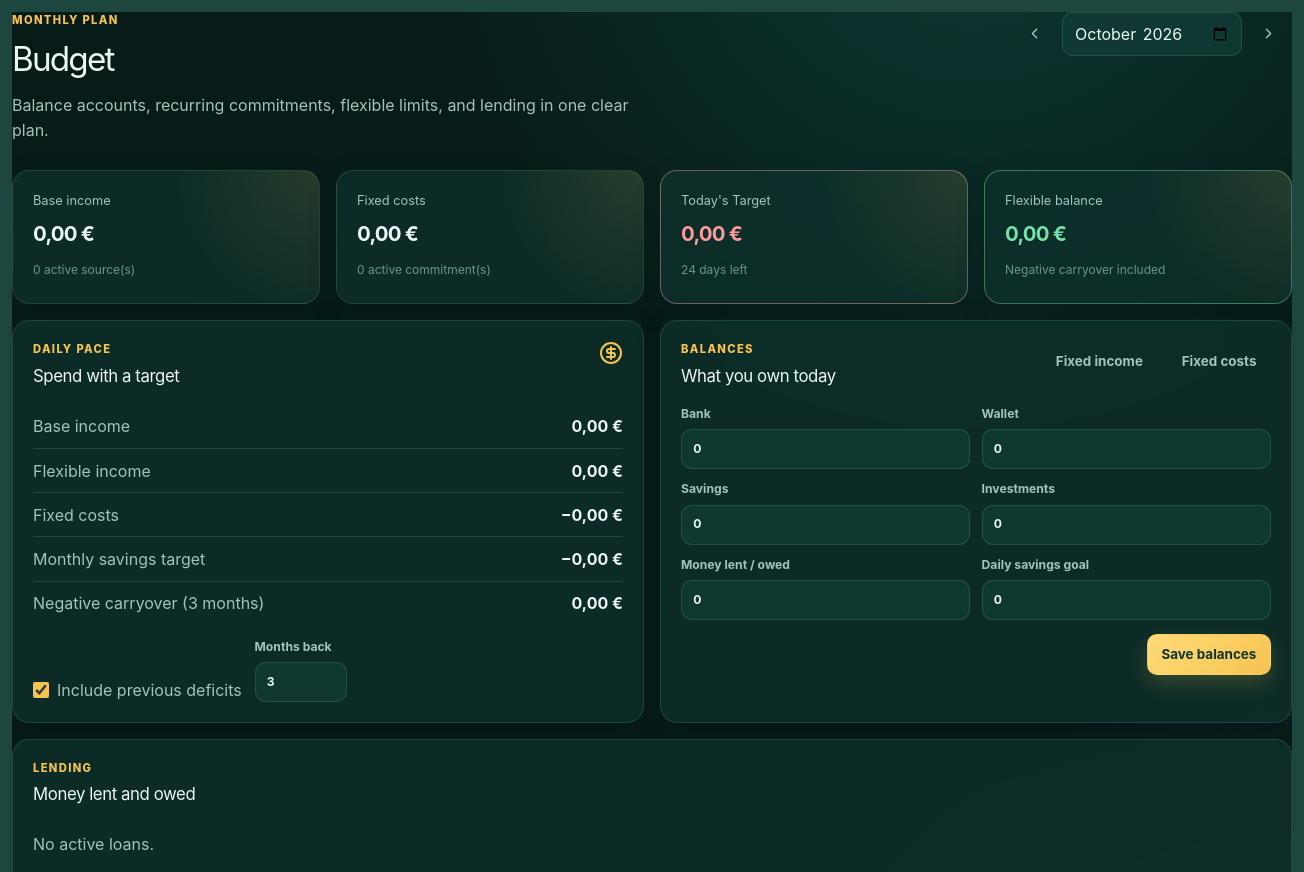
Test: BudgetScreen lending › navigates between budget months
The width and height of the screenshot is (1304, 872).
Expected: the field named "Budget month" holds "2026-10", x1=1062 y1=12 x2=1242 y2=56
Replace the text in the number field named "Carryover months" with "5" at (300, 682), box x1=254 y1=662 x2=346 y2=702
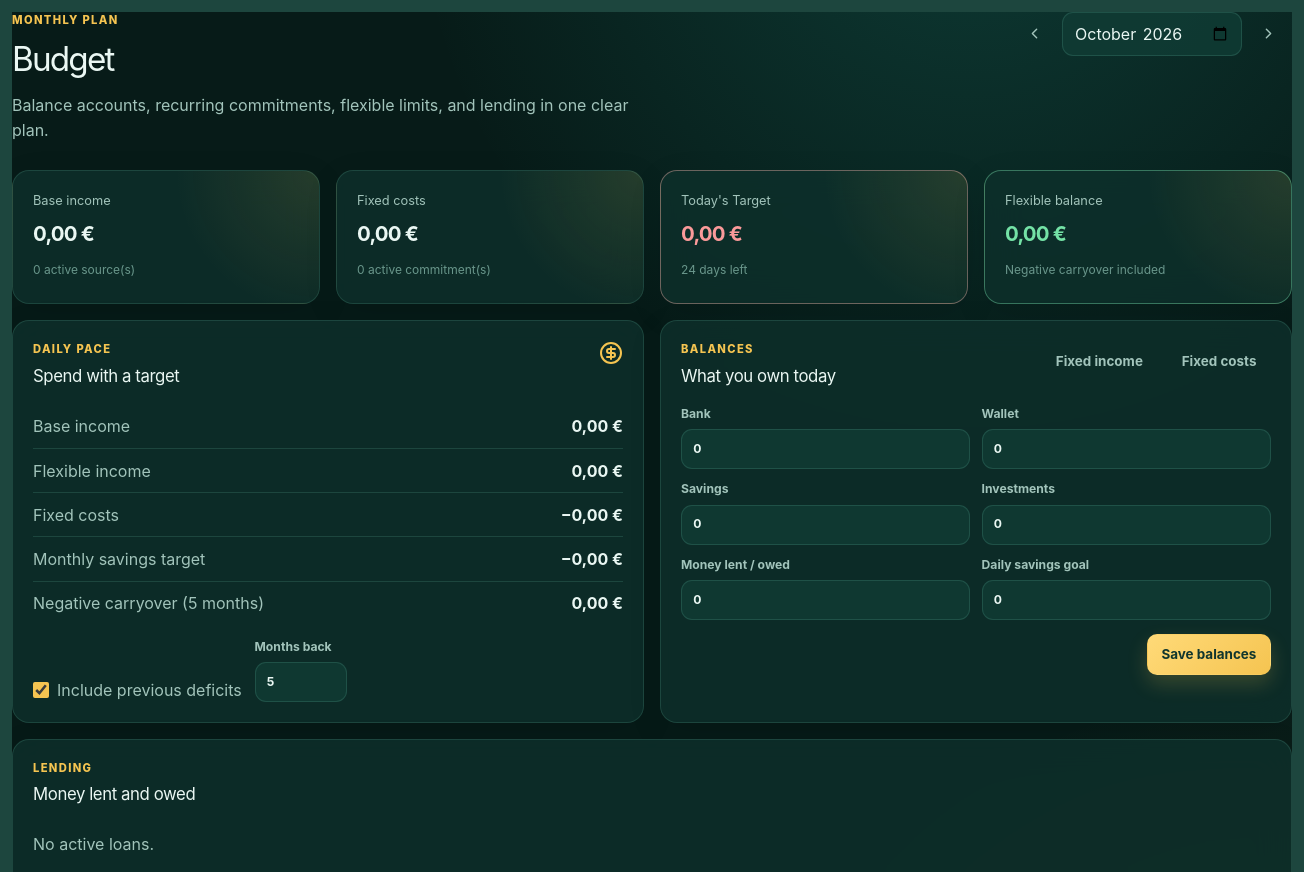
Click the button named "Previous month" at (1035, 34), box x1=1012 y1=14 x2=1058 y2=53
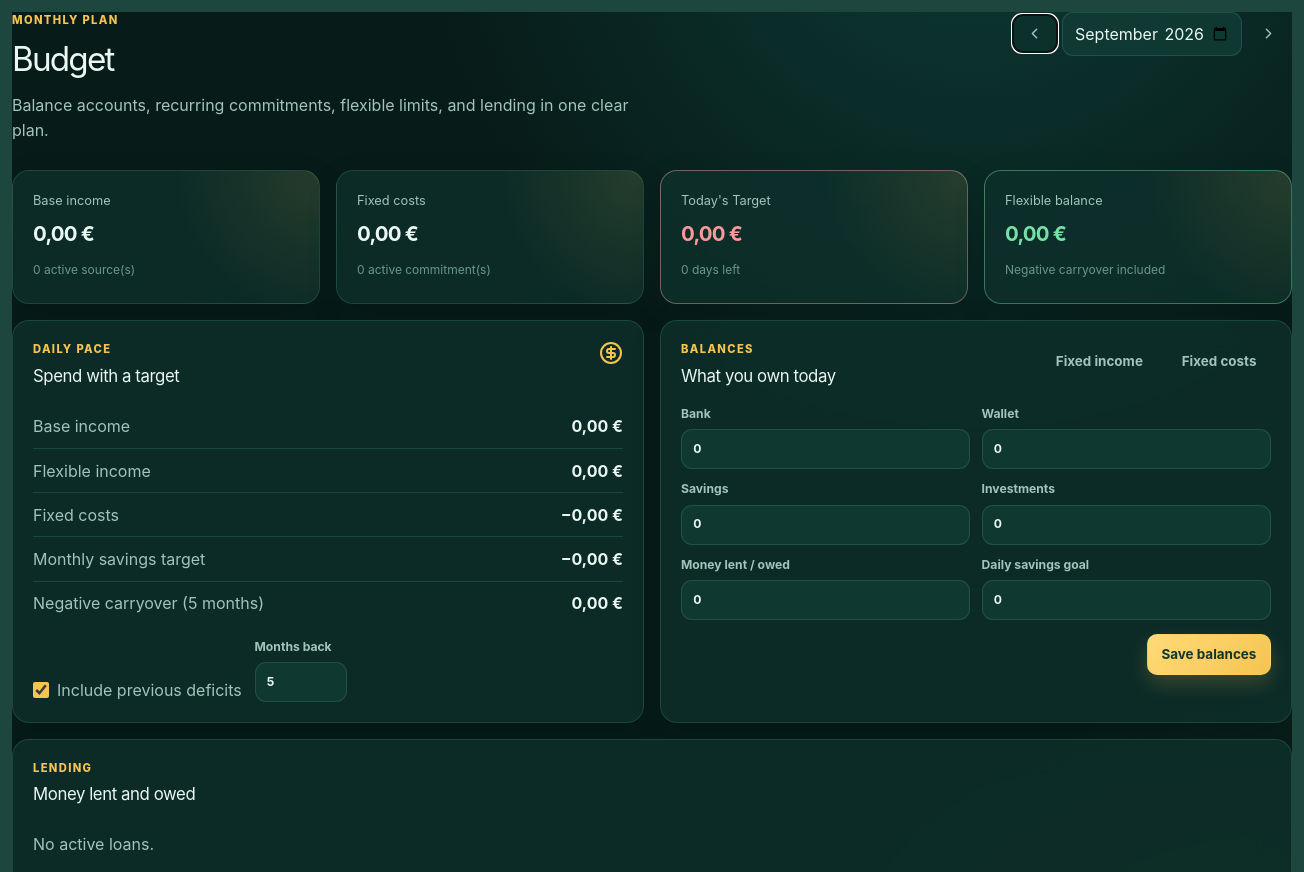
Click the button named "Next month" at (1269, 34), box x1=1246 y1=14 x2=1292 y2=53
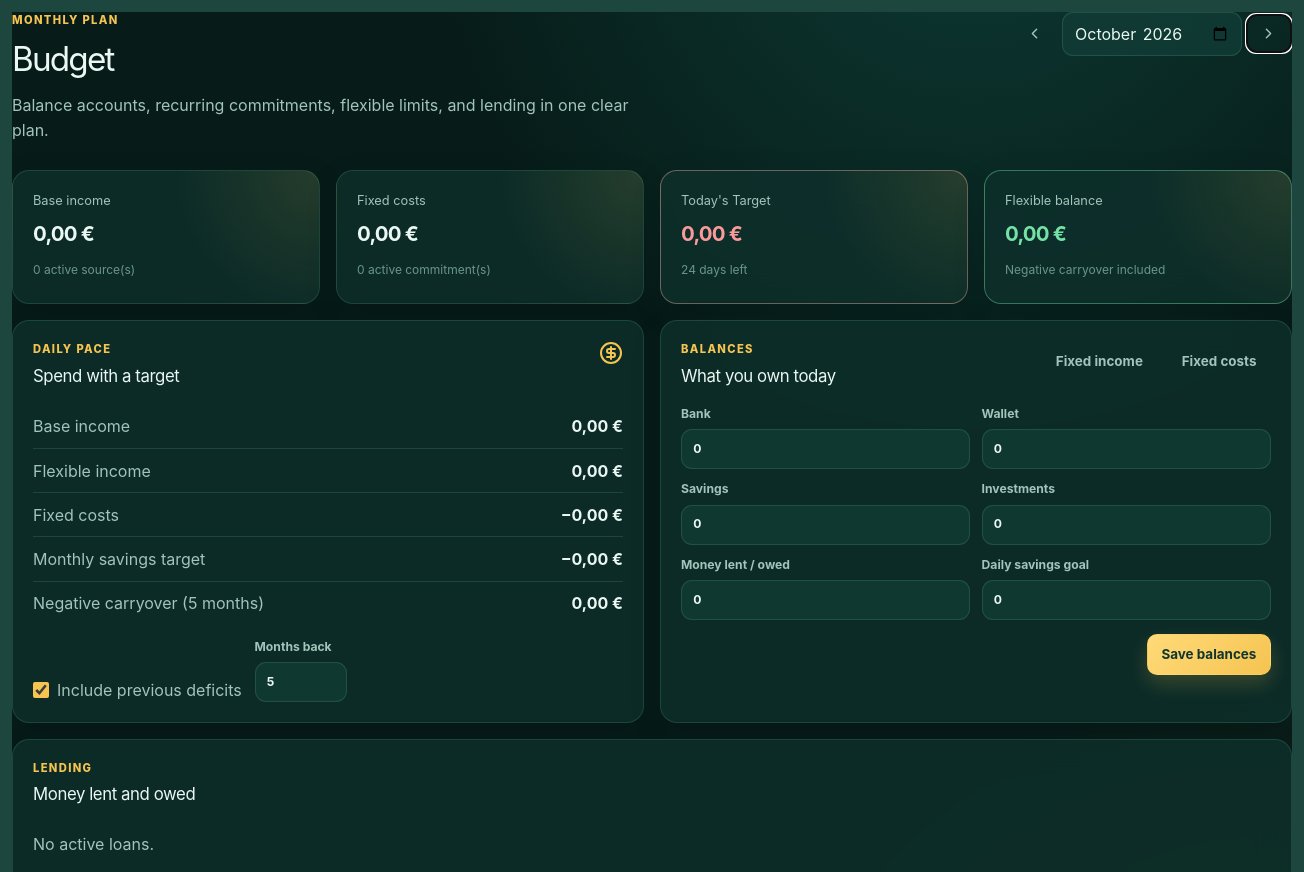
Now the field named "Budget month" holds "2026-10", box x1=1062 y1=12 x2=1242 y2=56
